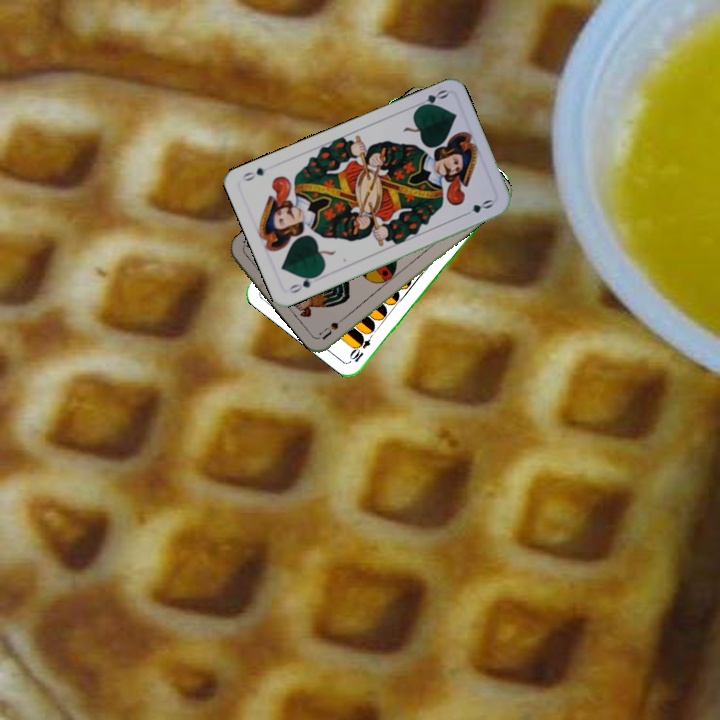E10: (346, 328, 377, 365)
GO: (411, 85, 450, 112), (285, 270, 322, 296)
SU: (316, 310, 352, 342)
